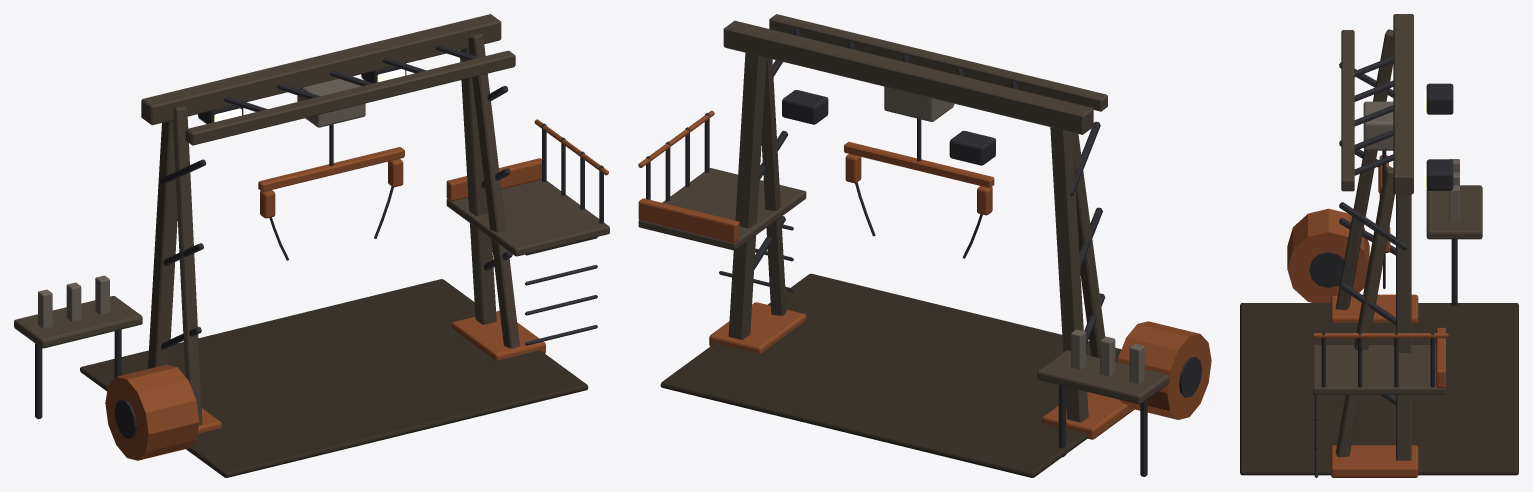
The model's file is service_gantry.glb.
The picture shows the model from 3 angles, left to right: view 1: azimuth 30°, elevation 25°; view 2: azimuth 150°, elevation 25°; view 3: azimuth 270°, elevation 25°; orthographic projection. The views are drawn at different scales.
Visible parts, largest first — view 1: service_gantry; view 2: service_gantry; view 3: service_gantry.
Boxes of the visible parts, <box> form: service_gantry: <box>14,14,609,477</box>; service_gantry: <box>638,14,1211,477</box>; service_gantry: <box>1240,14,1518,477</box>.
Bounding box in the file's own units: 4.61 × 2.74 × 2.3.
